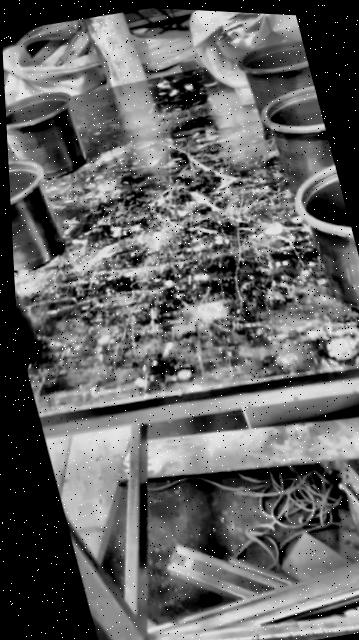pot: (288, 163, 359, 325), (4, 86, 89, 187), (260, 85, 334, 193), (8, 155, 67, 278), (237, 40, 313, 114), (14, 265, 42, 370)
